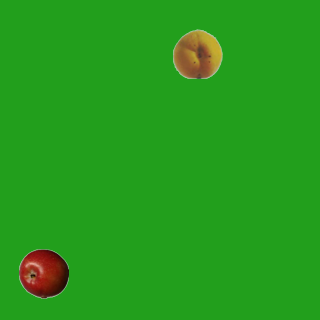Apple Braeburn: (18, 248, 68, 298)
Peach 2: (172, 28, 222, 78)
